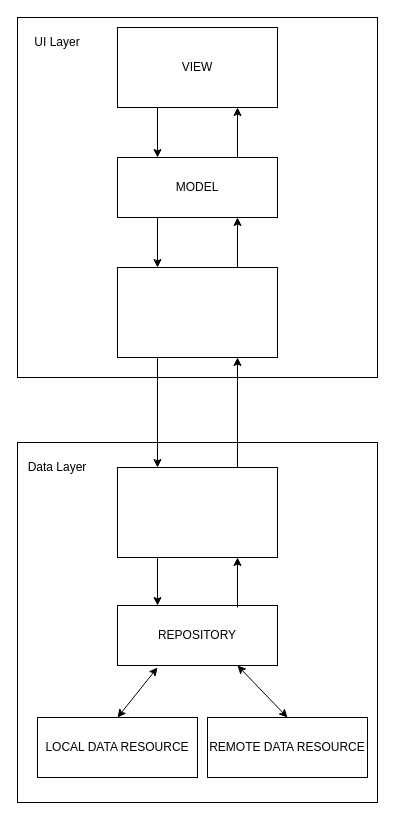
Some shapes in this 395 by 820 pixel diagram are drawn without their labels. Here are the shapes that lost their labels. From the top down, the centre of each, then its label:
point 197,312: VIEW MODEL
point 197,512: USECASE
